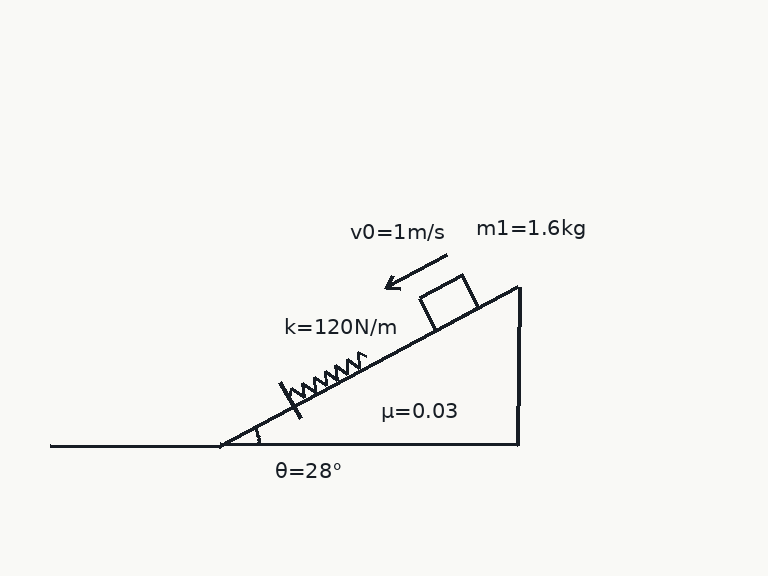block: (417, 273, 481, 332)
ramp: (217, 284, 519, 447)
spring: (287, 351, 369, 400)
